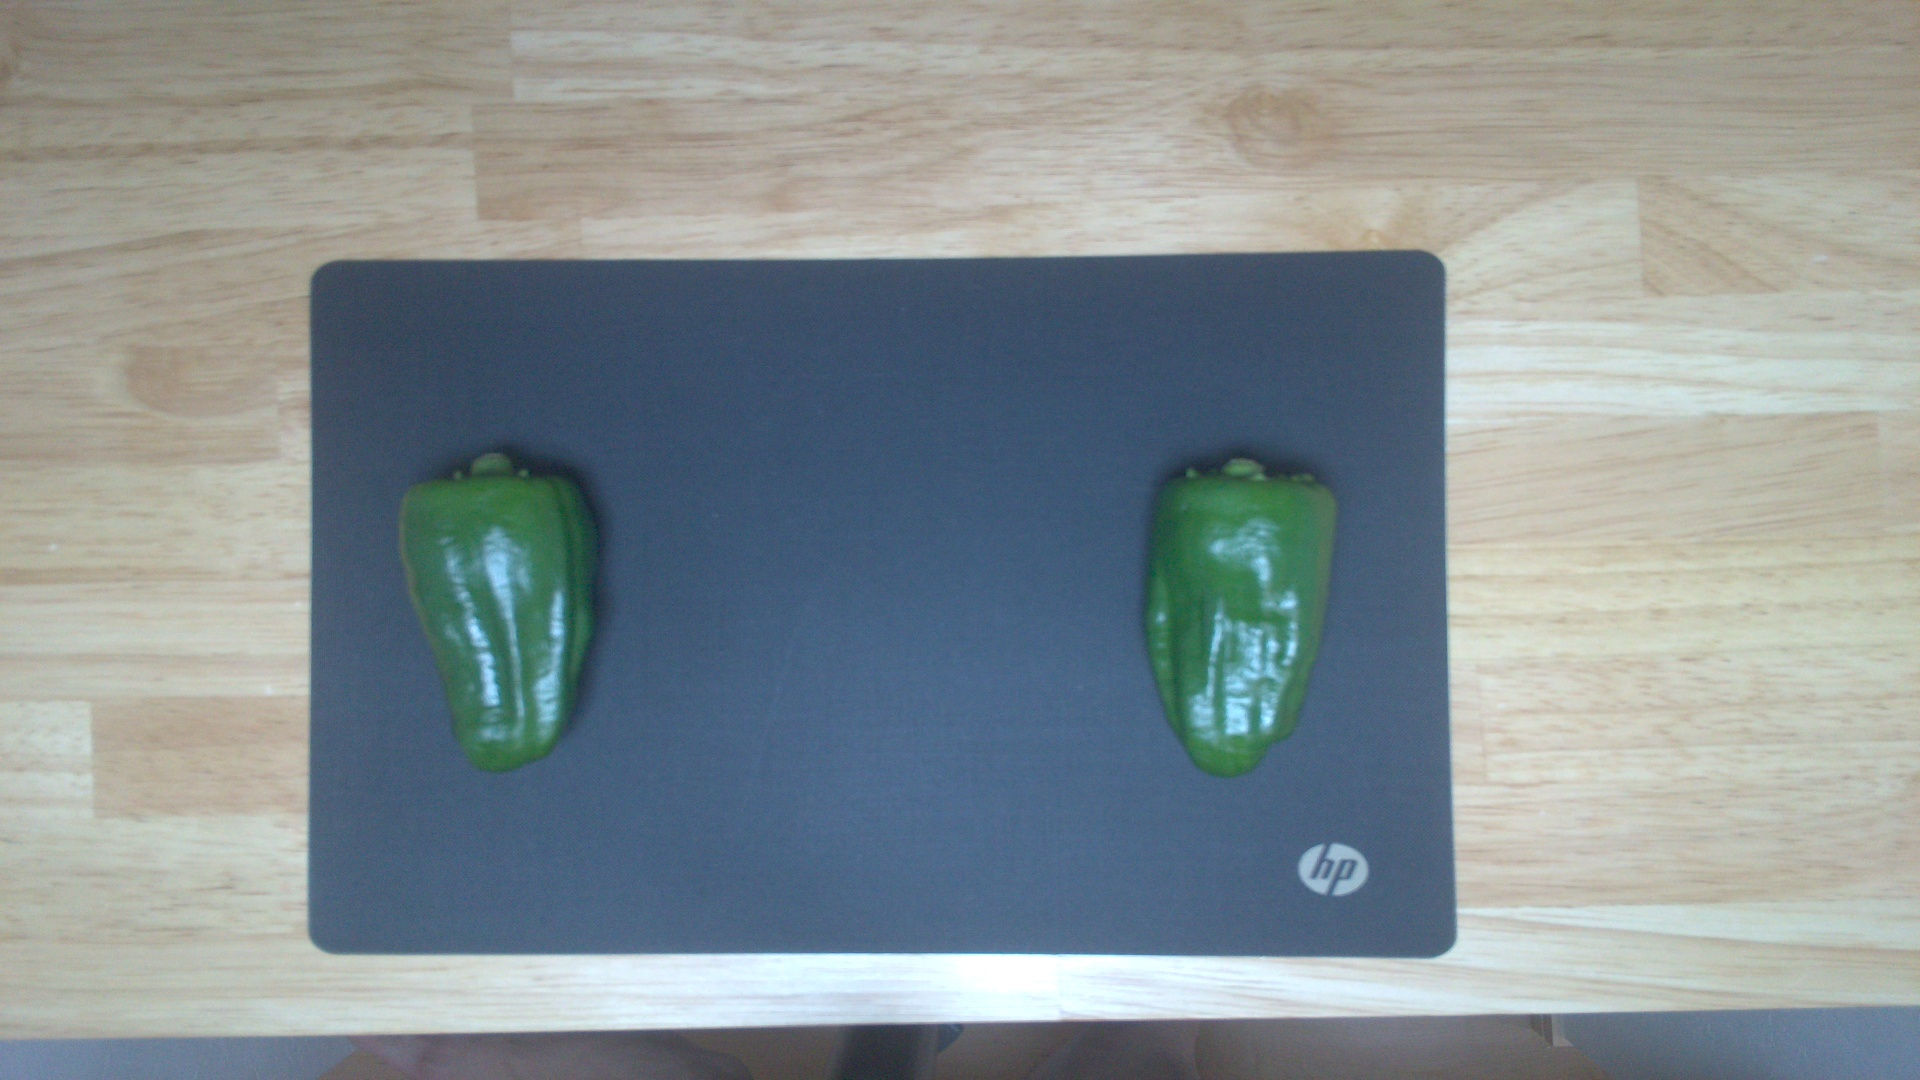Piman: (397, 450, 608, 778), (1131, 452, 1342, 778)
